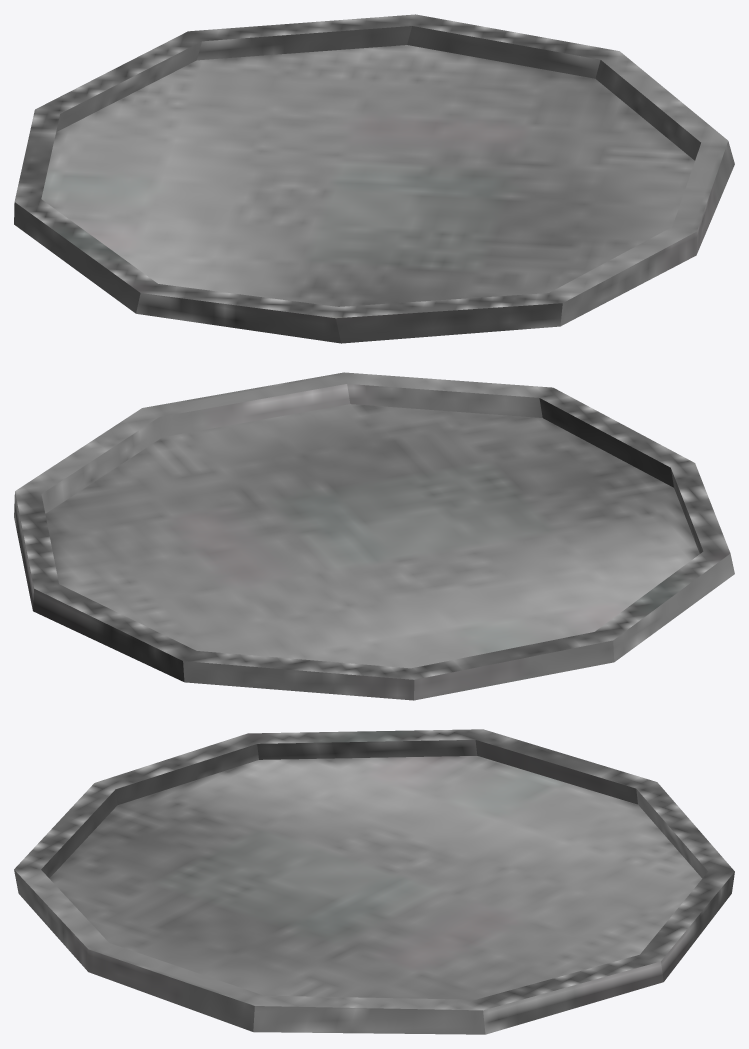
Rendered from looks.fbx.
3 renders of one model, top to bottom at view 1: azimuth 30°, elevation 25°; view 2: azimuth 150°, elevation 25°; view 3: azimuth 270°, elevation 25°, orthographic. The views are drawn at different scales.
Visible parts, largest first — view 1: looks; view 2: looks; view 3: looks.
Boxes of the visible parts, <box> form: looks: <box>14,14,734,343</box>; looks: <box>14,372,734,700</box>; looks: <box>14,729,734,1034</box>.
Bounding box in the file's own units: 163 × 7.38 × 175.
